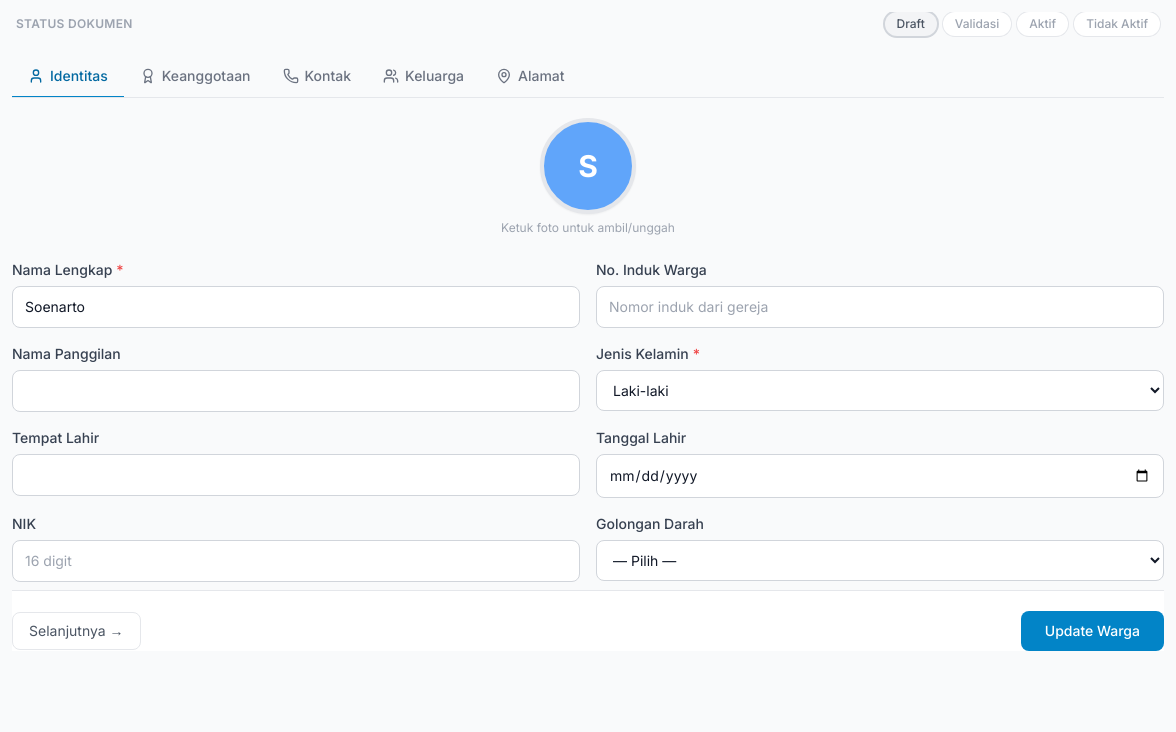
Scenario: WargaForm — koordinat rumah › latitude di luar -90..90 ditolak
Click the button "Alamat" at (530, 77), box x1=480 y1=56 x2=581 y2=98
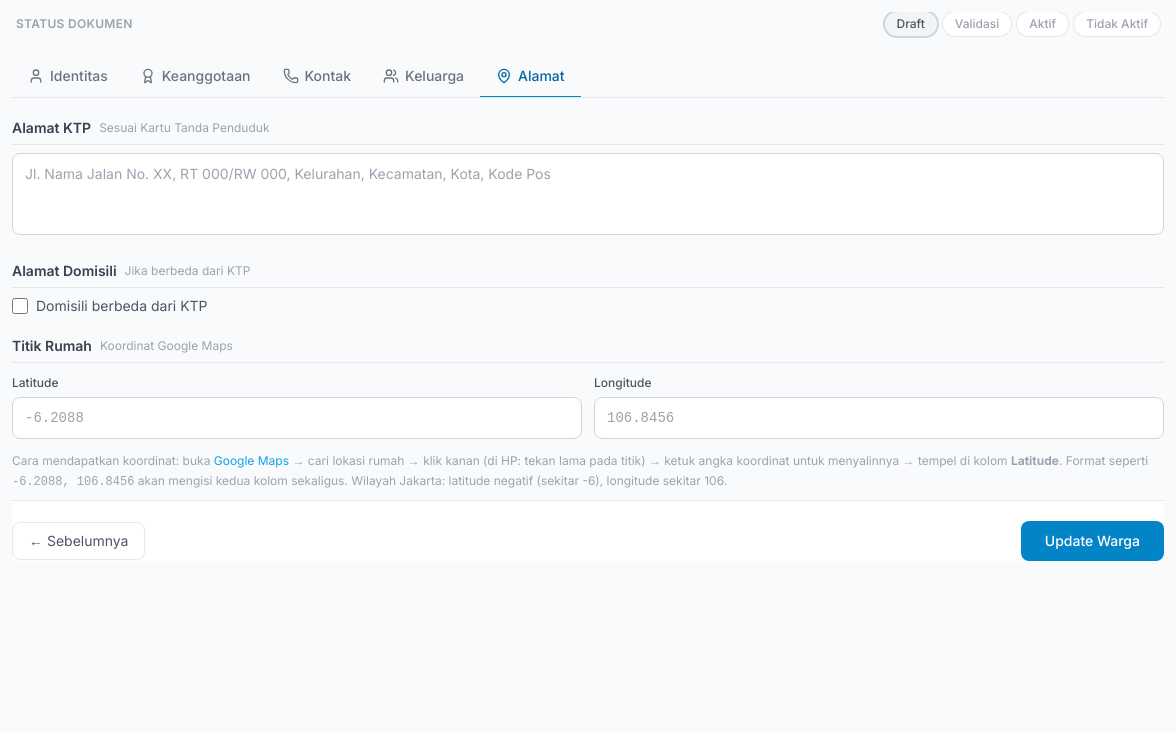
Type "106.8" into the field with placeholder "-6.2088" at (297, 418), box x1=12 y1=397 x2=582 y2=439
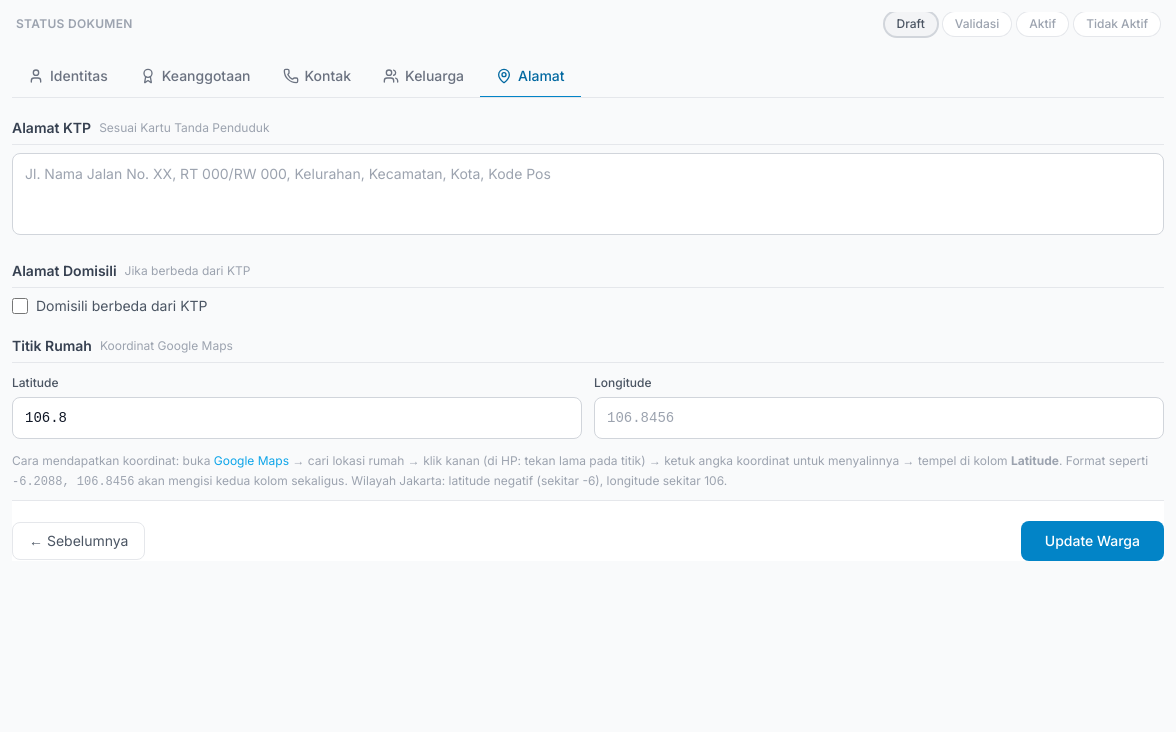
Click the button "Update Warga" at (1092, 541), box x1=1021 y1=521 x2=1164 y2=561
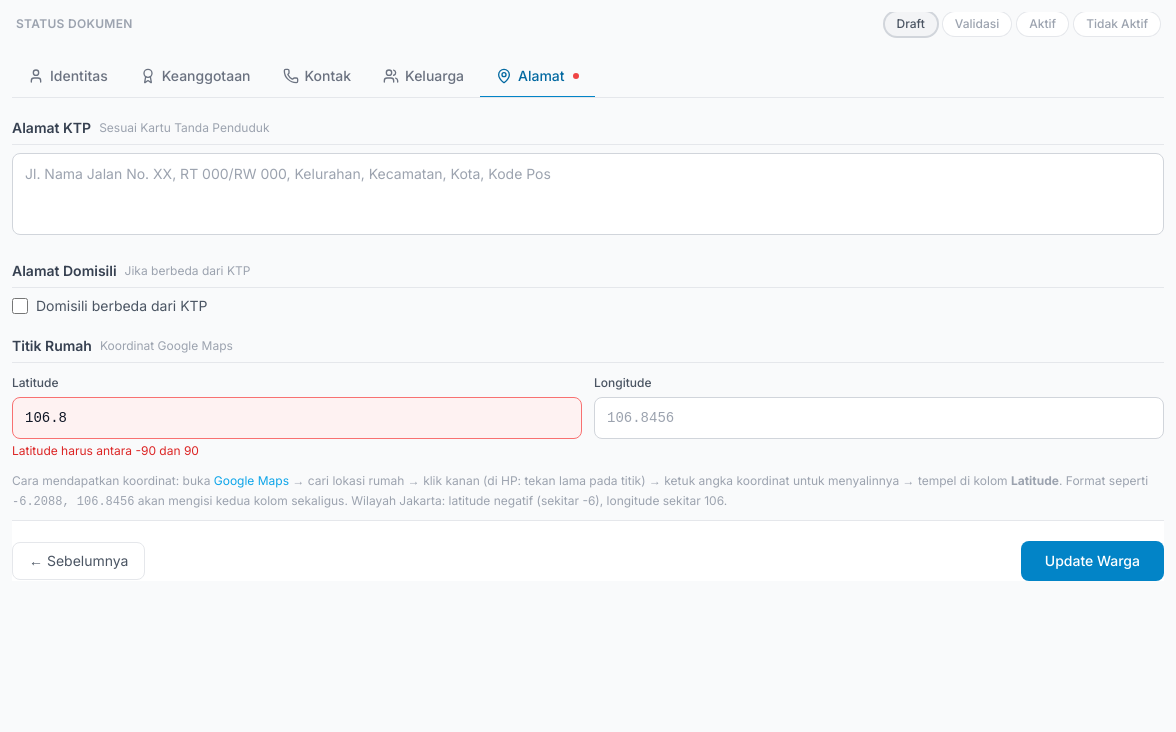
Check: the text "Latitude harus antara -90 dan 90" is shown, box x1=12 y1=443 x2=199 y2=458
